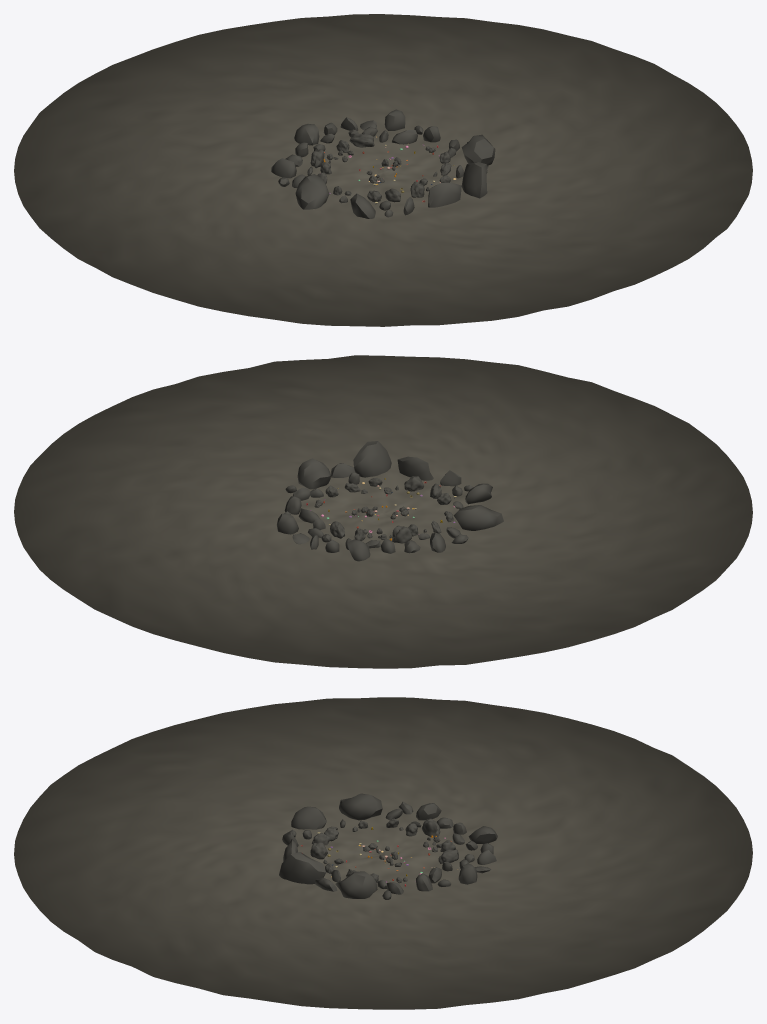
File: escenario.glb
The picture shows the model from 3 angles, top to bottom: view 1: azimuth 30°, elevation 25°; view 2: azimuth 150°, elevation 25°; view 3: azimuth 270°, elevation 25°; orthographic projection.
Parts seen in each view (by area): view 1: ESC_Lecho, ESC_Roca; view 2: ESC_Lecho, ESC_Roca; view 3: ESC_Lecho, ESC_Roca.
Boxes of the visible parts, x1,y1,x2,y2 form: ESC_Lecho: [14, 14, 752, 326]; ESC_Roca: [271, 109, 495, 218]; ESC_Lecho: [14, 355, 752, 668]; ESC_Roca: [277, 441, 503, 561]; ESC_Lecho: [14, 697, 752, 1009]; ESC_Roca: [279, 793, 497, 899].
Size of the model in its own units: 17.2 by 1.13 by 17.2.
Materials: 6 (4 with a texture image).
